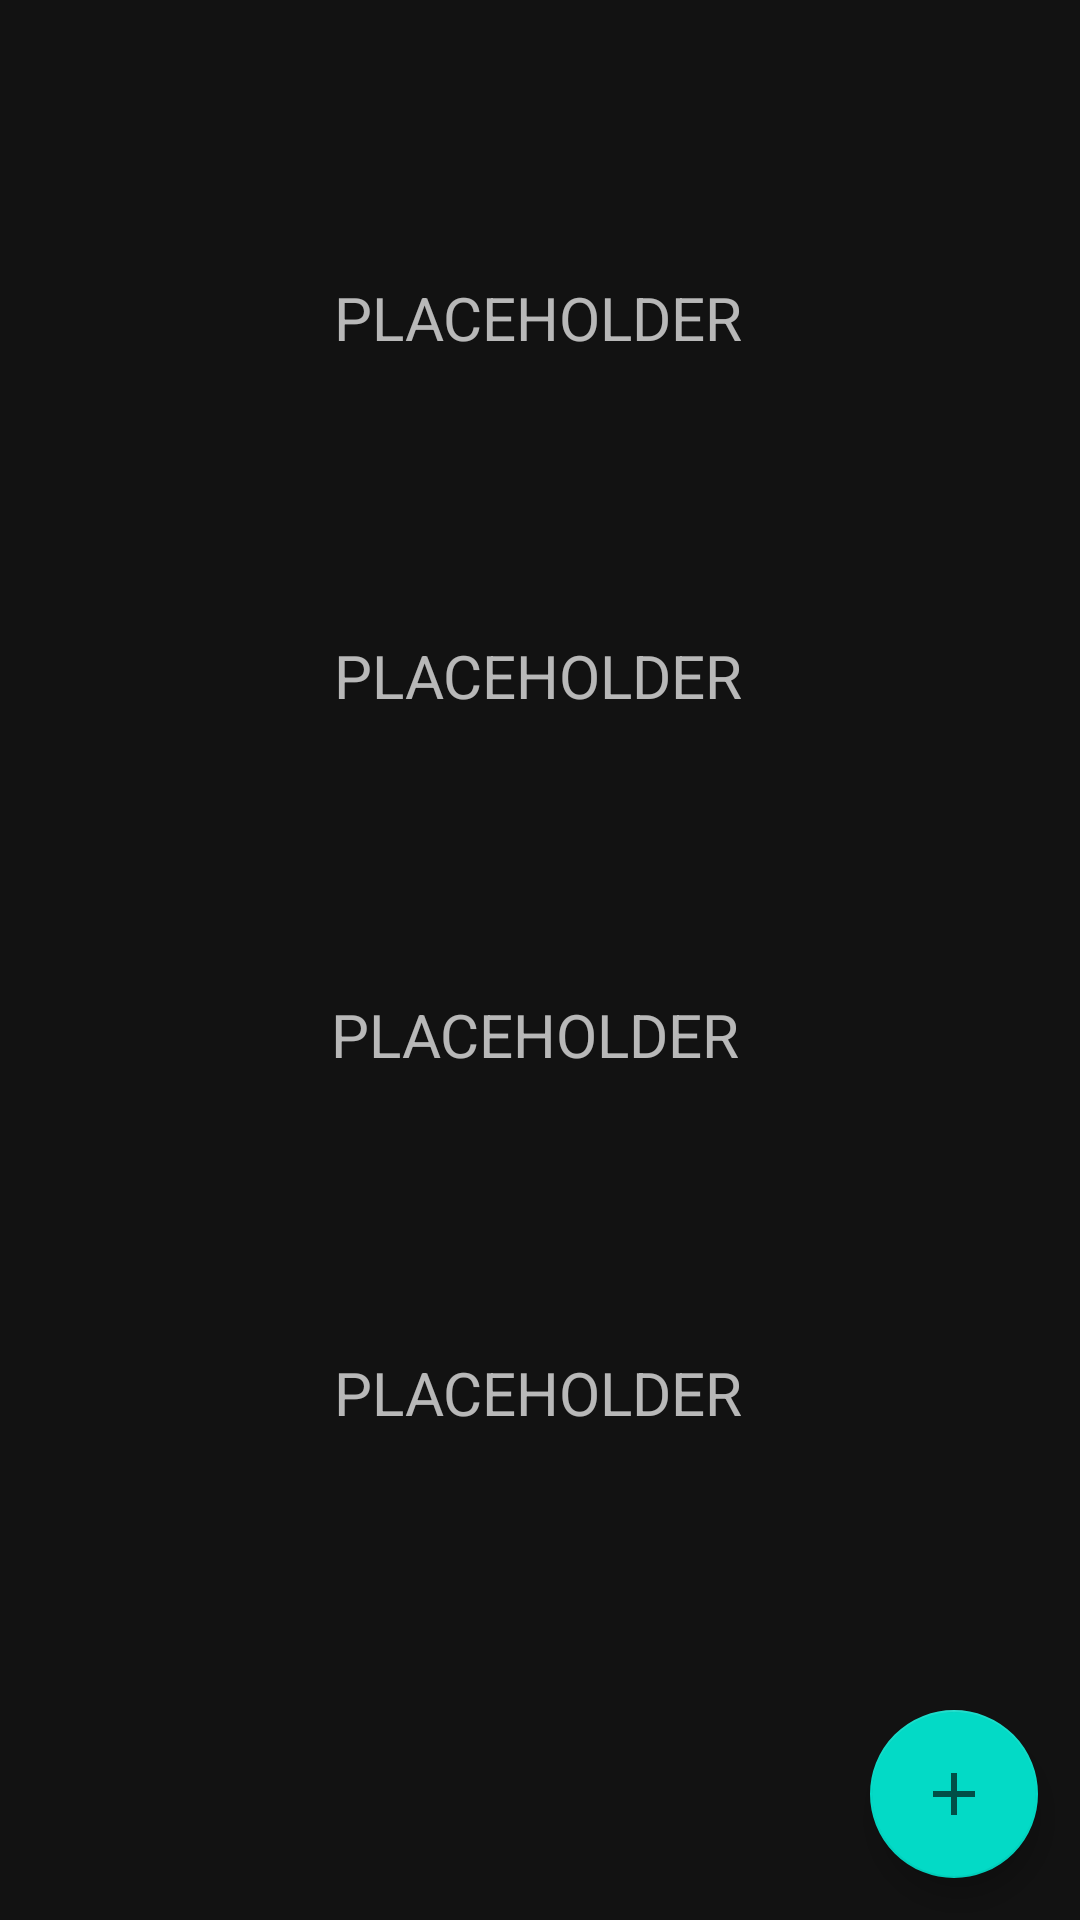

Icon click points for this 1080×1920 phone screenshot, format [x,y]:
plus: [954,1794]
